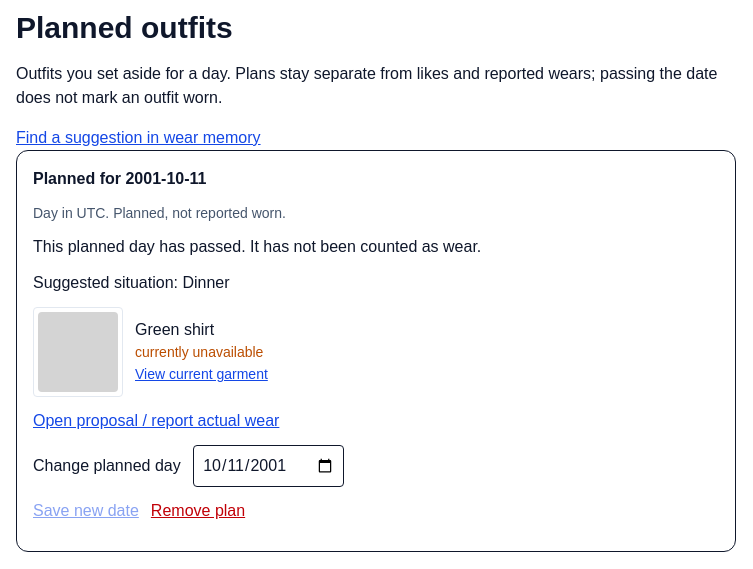
it: removes a plan with no wear request
expect the text "Green shirt" is shown: met, box left=135, top=321, right=214, bottom=338
Click the button "Remove plan" at (198, 511), box left=151, top=499, right=245, bottom=523
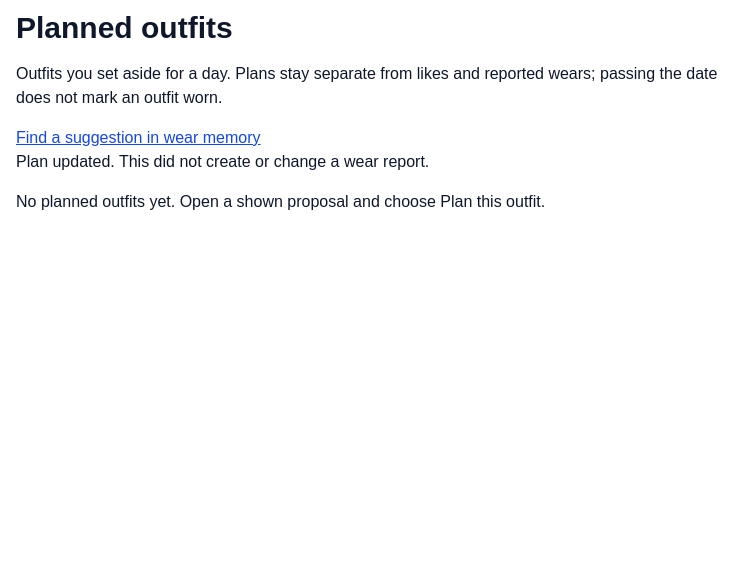
expect the text "No planned outfits yet" is shown: met, box left=16, top=193, right=545, bottom=210
